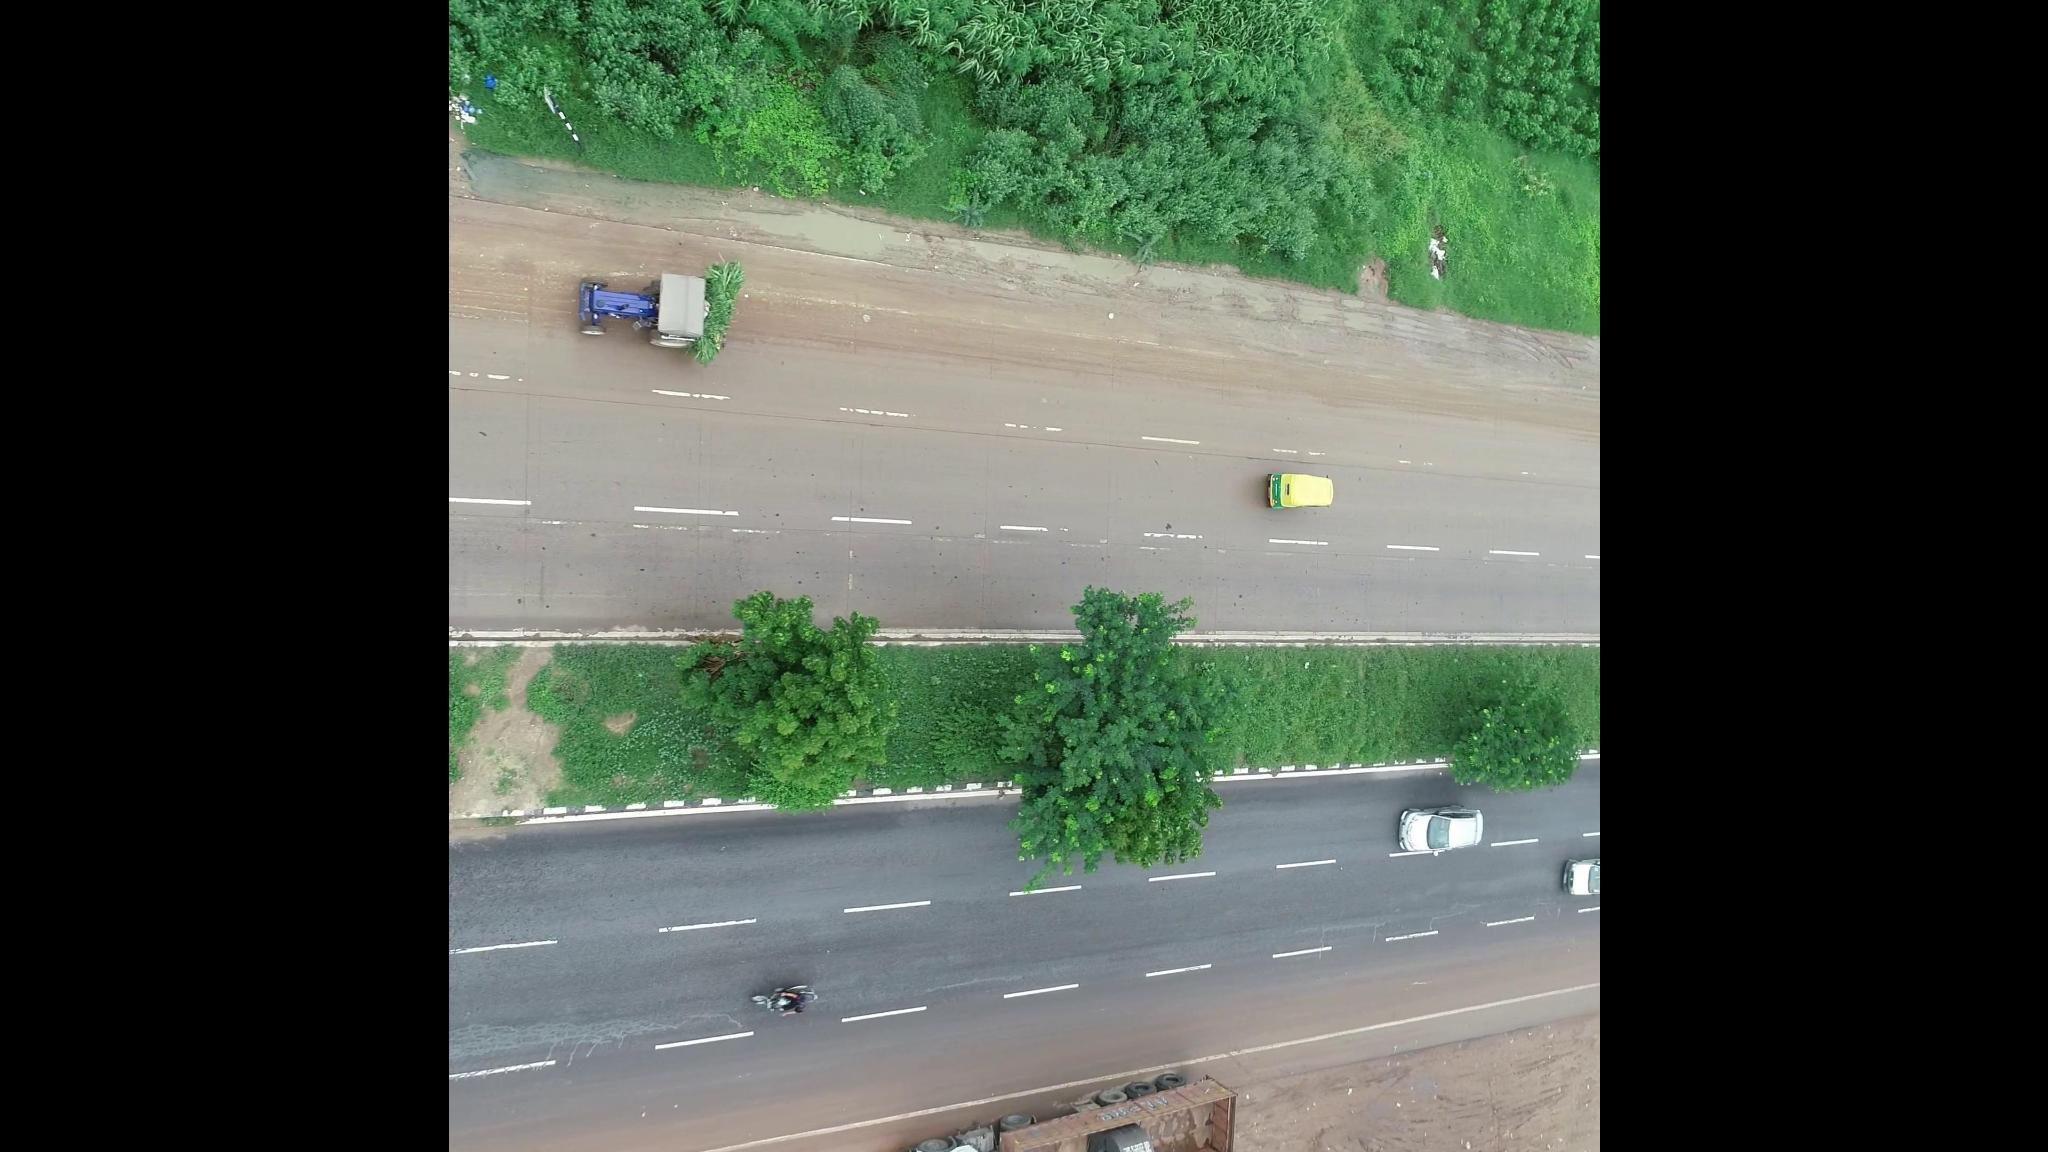Cracks: (457, 999, 740, 1068)
